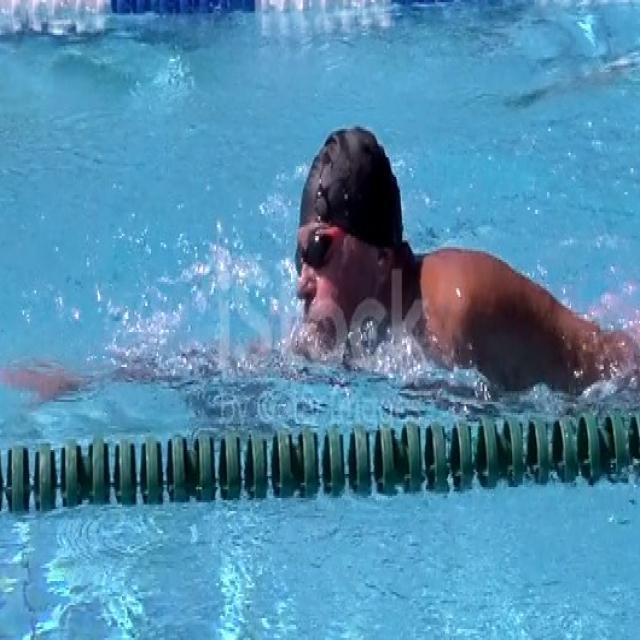Swimming: (283, 117, 640, 391)
